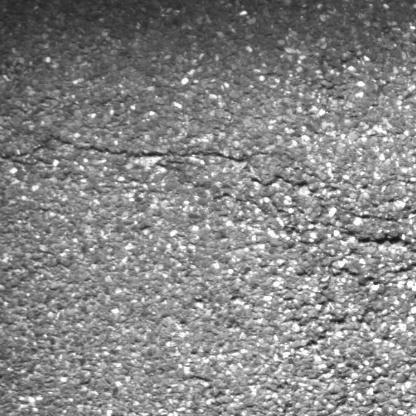Cracks: (0, 131, 273, 172), (337, 225, 416, 264)
